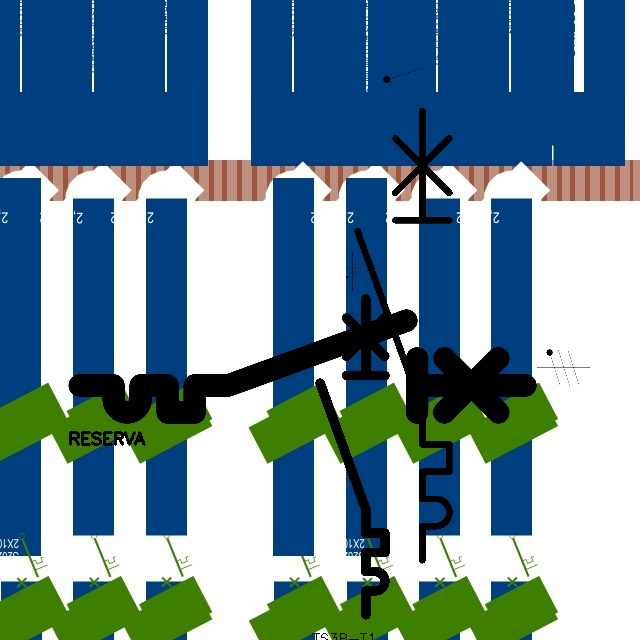interruptor_termomagnetico: (346, 99, 461, 571), (68, 309, 537, 424), (312, 290, 393, 623)
